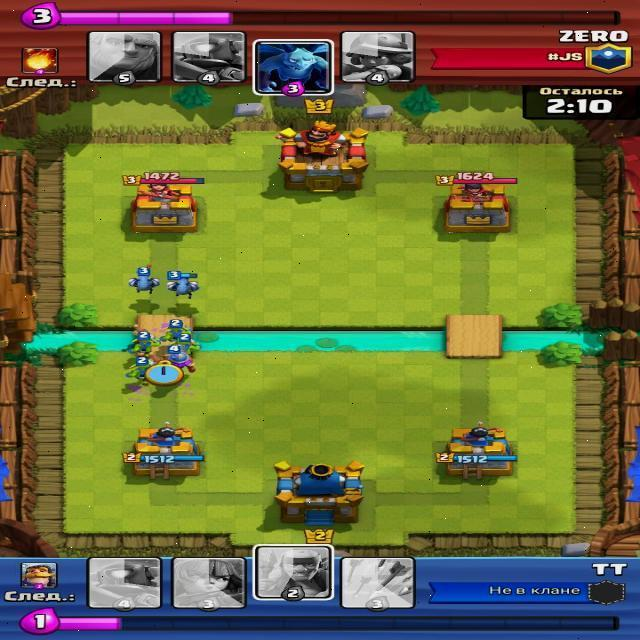EKingTower: (280, 143, 367, 192)
EnemyPrincessTower: (131, 188, 197, 236), (442, 184, 509, 230)
OGoblin: (167, 319, 186, 343), (133, 334, 153, 353), (176, 340, 195, 352), (135, 364, 147, 381)
OMusk: (167, 351, 192, 377)
OwnKingTower: (278, 466, 364, 522)
OwnPrincessTower: (138, 430, 201, 486), (445, 438, 518, 481)
ominion: (171, 272, 197, 298), (132, 268, 156, 292)
